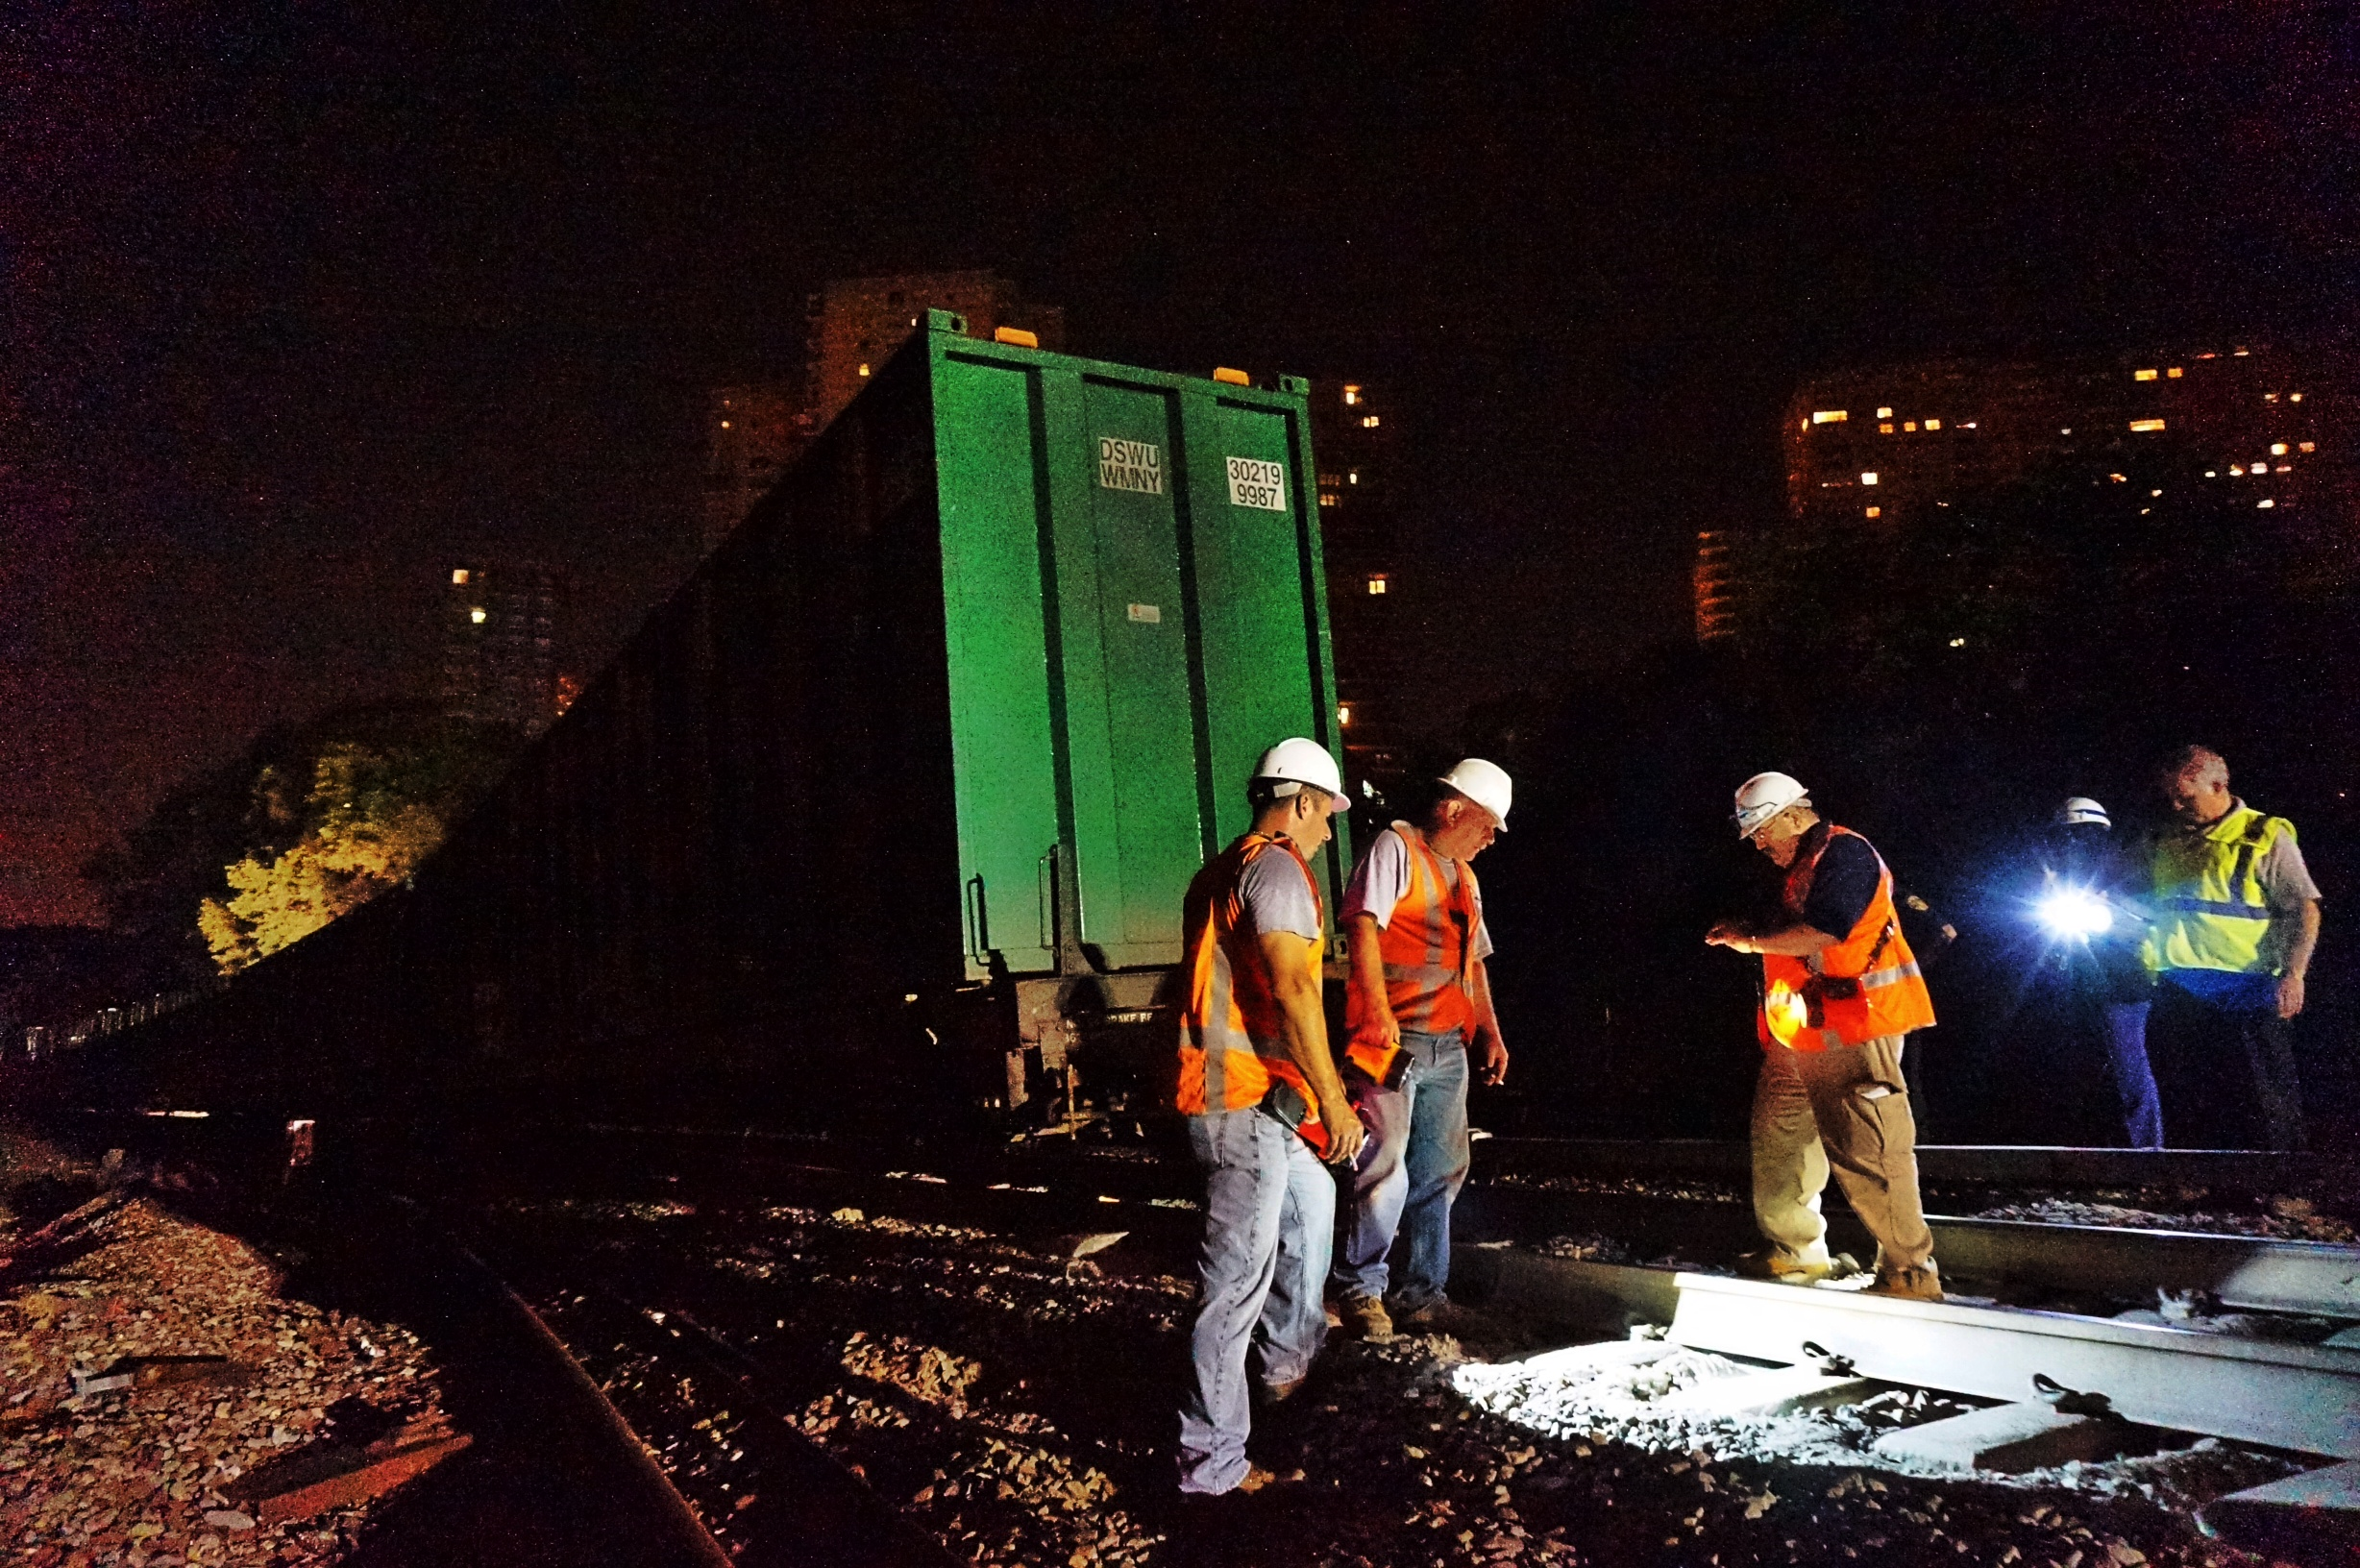Hard Hat: (1246, 743, 1351, 860), (1717, 766, 1818, 873), (1429, 753, 1516, 867), (2033, 792, 2112, 857)
Person: (1101, 746, 1364, 1496), (1712, 762, 1943, 1306), (1331, 758, 1520, 1345), (2139, 747, 2342, 1215), (2029, 790, 2169, 1150)
Vest: (1131, 784, 1342, 1147), (1715, 812, 1947, 1045), (1365, 786, 1520, 1044), (2130, 752, 2303, 979)
